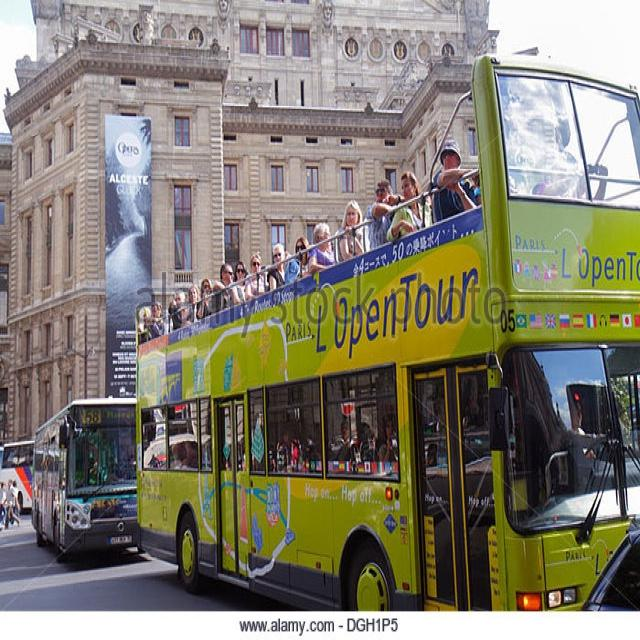body: (386, 169, 640, 640), (505, 82, 611, 206), (565, 398, 640, 557), (418, 368, 486, 523), (221, 417, 375, 472), (431, 139, 478, 225), (142, 418, 212, 473), (364, 176, 405, 252), (79, 431, 135, 480), (336, 197, 371, 265), (306, 220, 339, 278), (135, 299, 176, 342), (211, 260, 238, 314), (167, 289, 194, 338), (268, 242, 291, 293), (0, 478, 21, 531), (244, 252, 266, 302), (2, 478, 22, 531), (377, 416, 399, 462), (293, 235, 312, 283), (228, 259, 247, 305), (195, 278, 213, 322), (187, 284, 199, 302), (255, 481, 257, 484)
